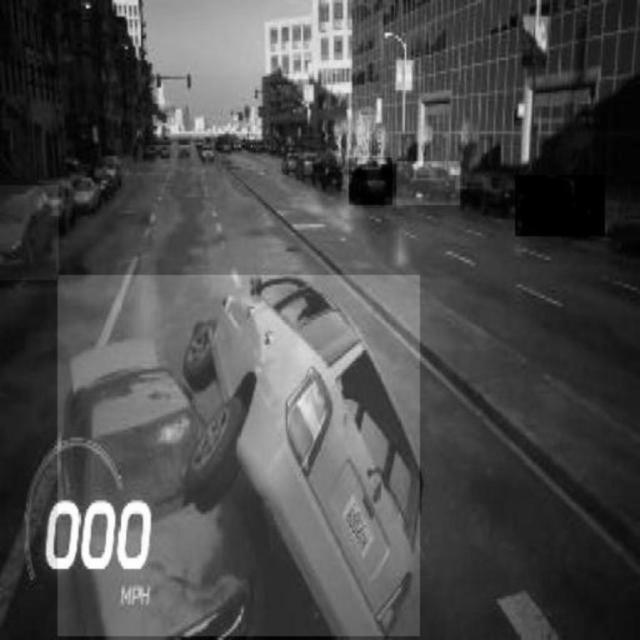accident: (58, 276, 420, 637)
vehicle: (0, 185, 58, 280), (516, 175, 606, 236), (396, 162, 460, 206), (349, 158, 393, 205)
